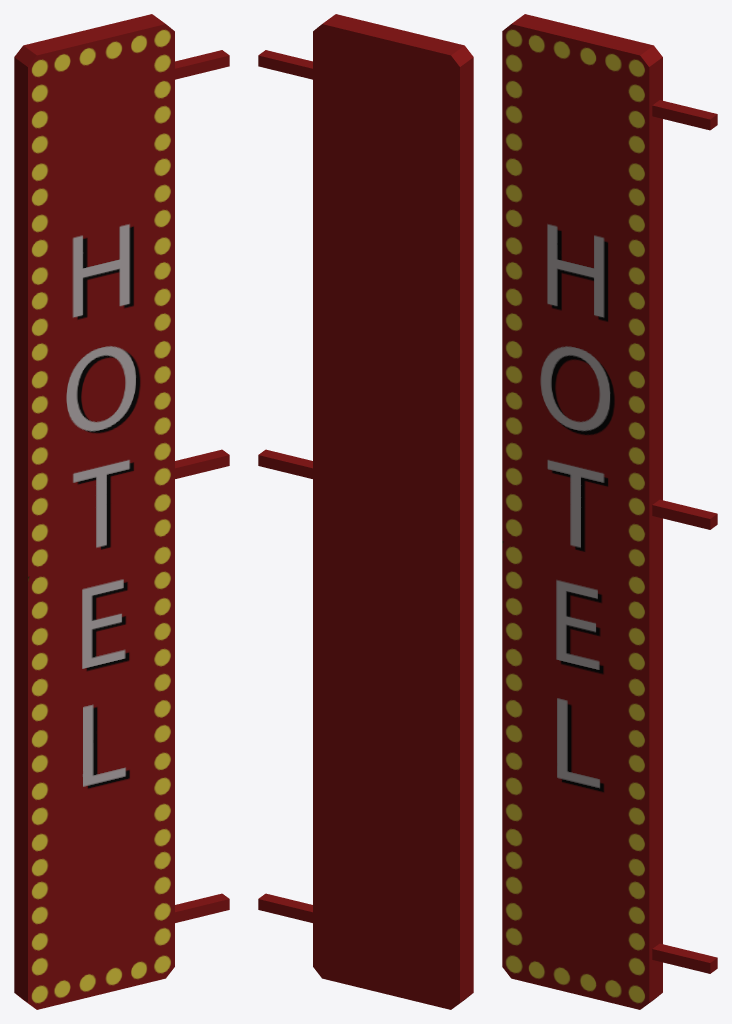
Rendered from HotelSign.FBX.
3 renders of one model, left to right at view 1: azimuth 30°, elevation 25°; view 2: azimuth 150°, elevation 25°; view 3: azimuth 330°, elevation 25°, orthographic.
Visible parts, largest first — view 1: Box008; view 2: Box008; view 3: Box008.
Boxes of the visible parts, <box> form: Box008: <box>14,14,229,1009</box>; Box008: <box>258,14,473,1009</box>; Box008: <box>502,14,717,1009</box>.
Size of the model in its own units: 79.69 by 355 by 9.24.
